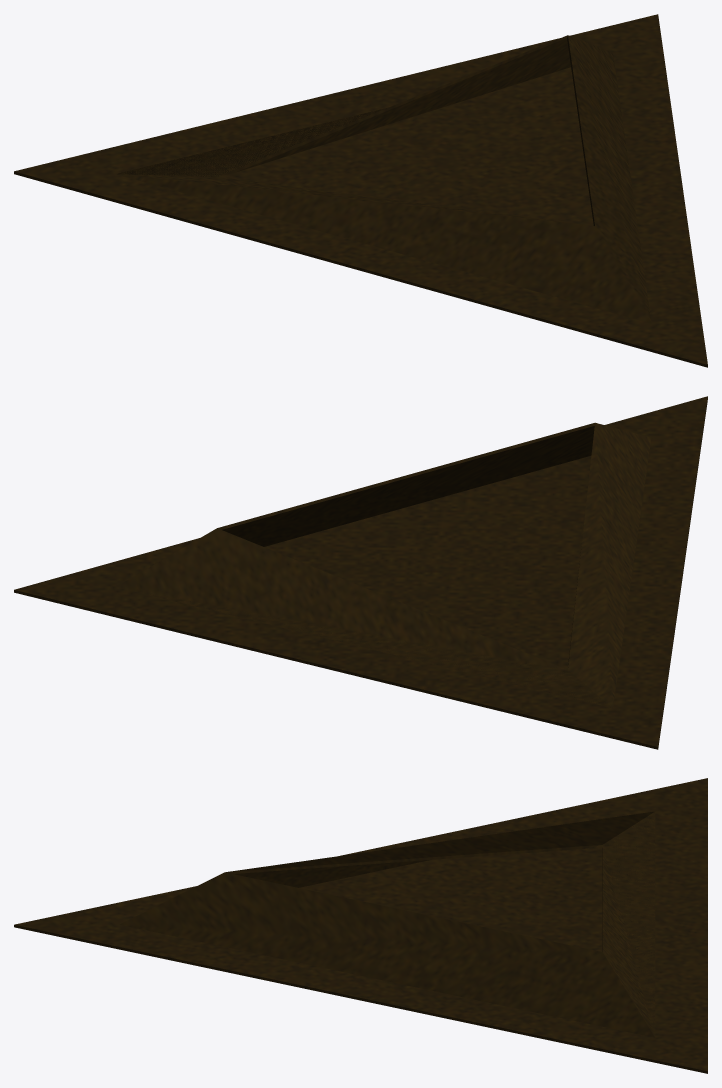
The model's file is AcornHole.fbx.
3 views of the same model, one above another, from view 1: azimuth 30°, elevation 25°; view 2: azimuth 150°, elevation 25°; view 3: azimuth 270°, elevation 25° (orthographic). The views are drawn at different scales.
Parts seen in each view (by area): view 1: AcornHole; view 2: AcornHole; view 3: AcornHole.
Boxes of the visible parts, left/top/right/bottom form: AcornHole: left=14, top=14, right=707, bottom=367; AcornHole: left=14, top=396, right=707, bottom=749; AcornHole: left=14, top=778, right=707, bottom=1073.
Size of the model in its own units: 240 by 21 by 240.
